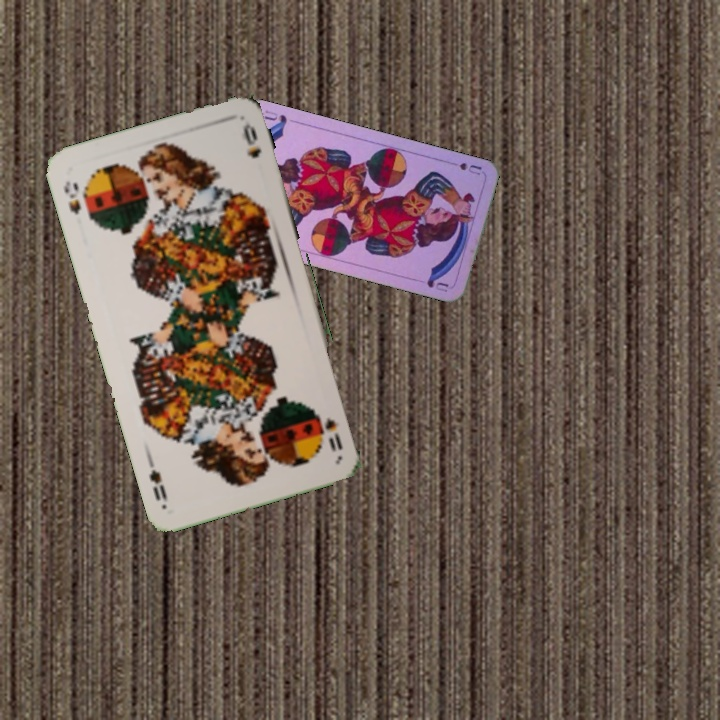SO: (321, 412, 346, 453), (59, 177, 84, 217)
SU: (444, 157, 485, 178)
